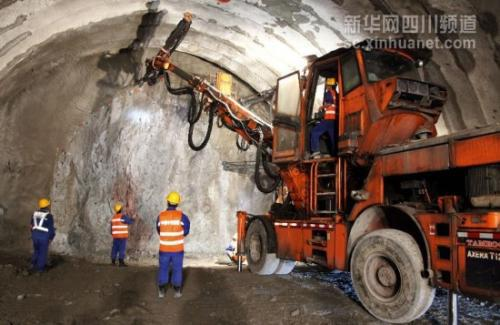helmet: (165, 190, 182, 211), (324, 74, 339, 93), (111, 200, 128, 216), (37, 197, 51, 212)
